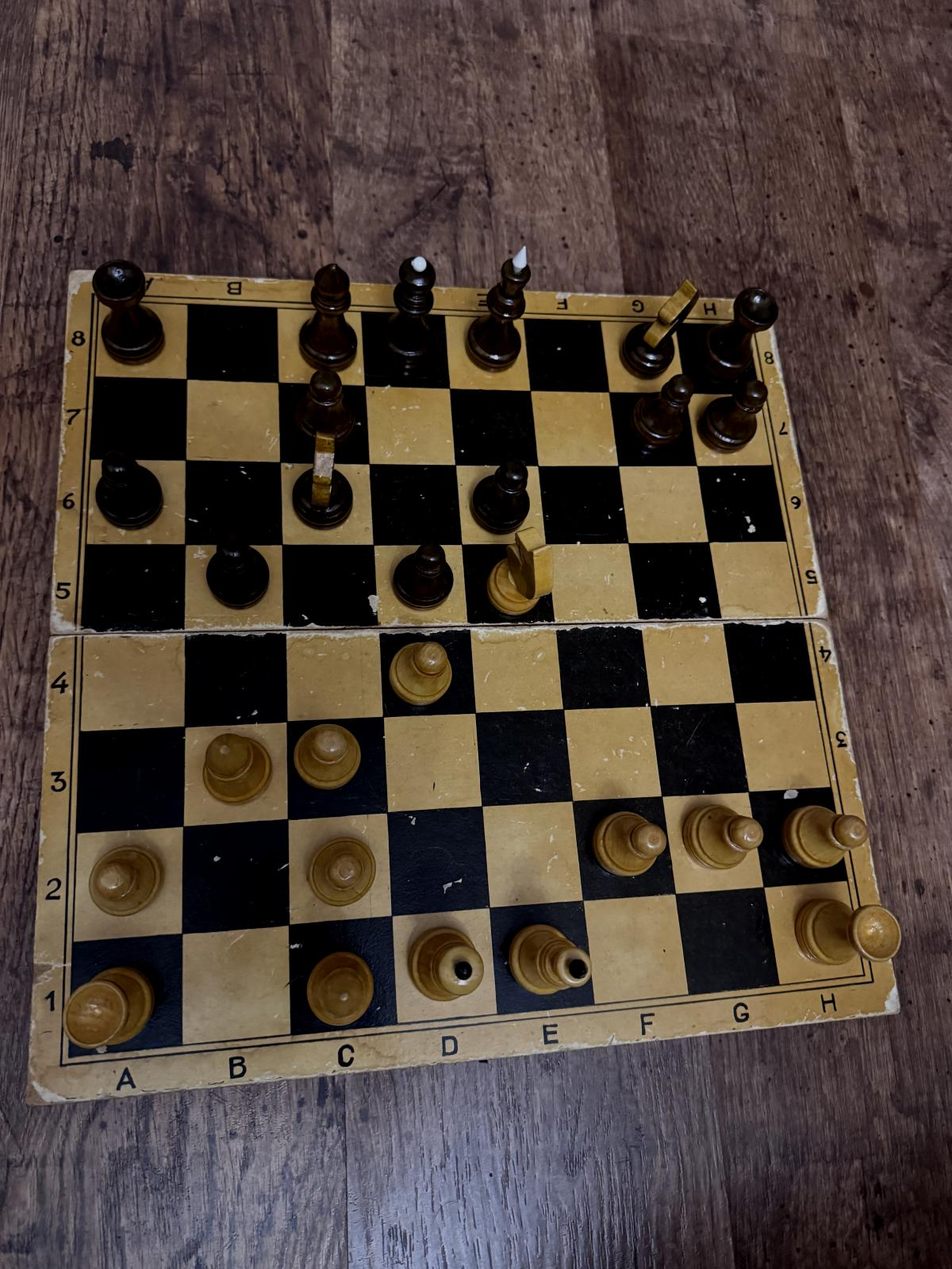Chess-Board: (69, 300, 864, 1057)
